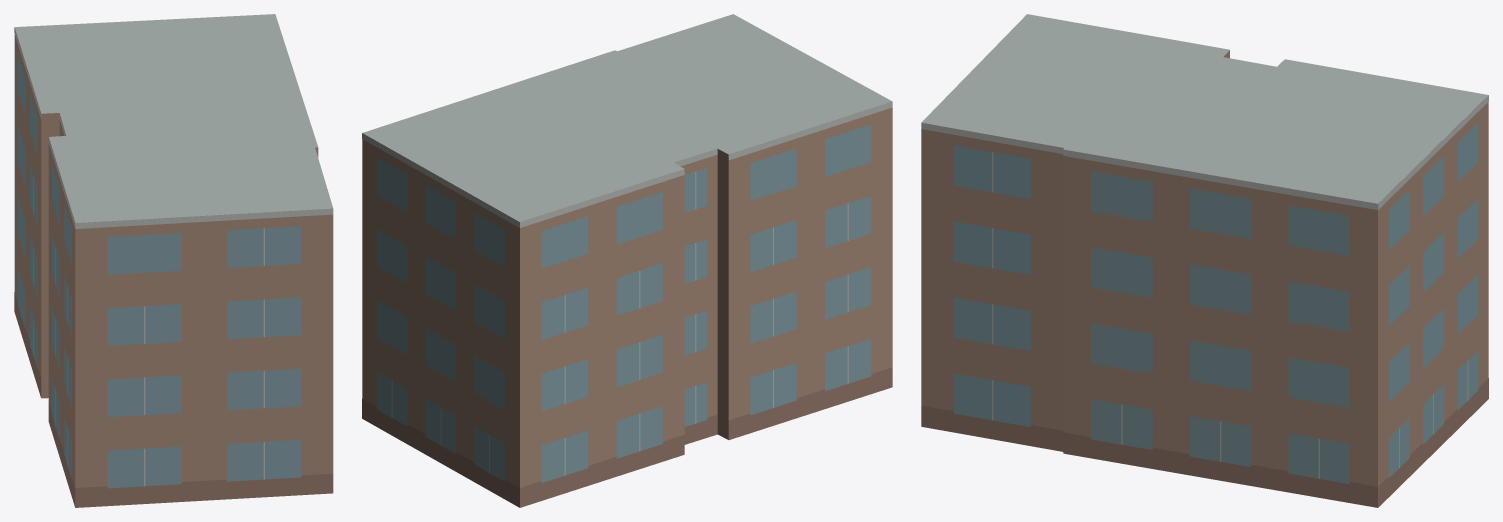
Rendered from survey-upis-32525081.glb.
3 views of the same model, side by side, from view 1: azimuth 30°, elevation 25°; view 2: azimuth 150°, elevation 25°; view 3: azimuth 270°, elevation 25° (orthographic). The views are drawn at different scales.
Parts seen in each view (by area): view 1: survey-upis-32525081.tmp; view 2: survey-upis-32525081.tmp; view 3: survey-upis-32525081.tmp.
Part boxes in pixels (bbox=[...]): survey-upis-32525081.tmp: bbox=[14, 14, 333, 507]; survey-upis-32525081.tmp: bbox=[362, 14, 892, 507]; survey-upis-32525081.tmp: bbox=[921, 14, 1488, 507].
Bounding box in the file's own units: 15.68 × 11.7 × 19.8.
